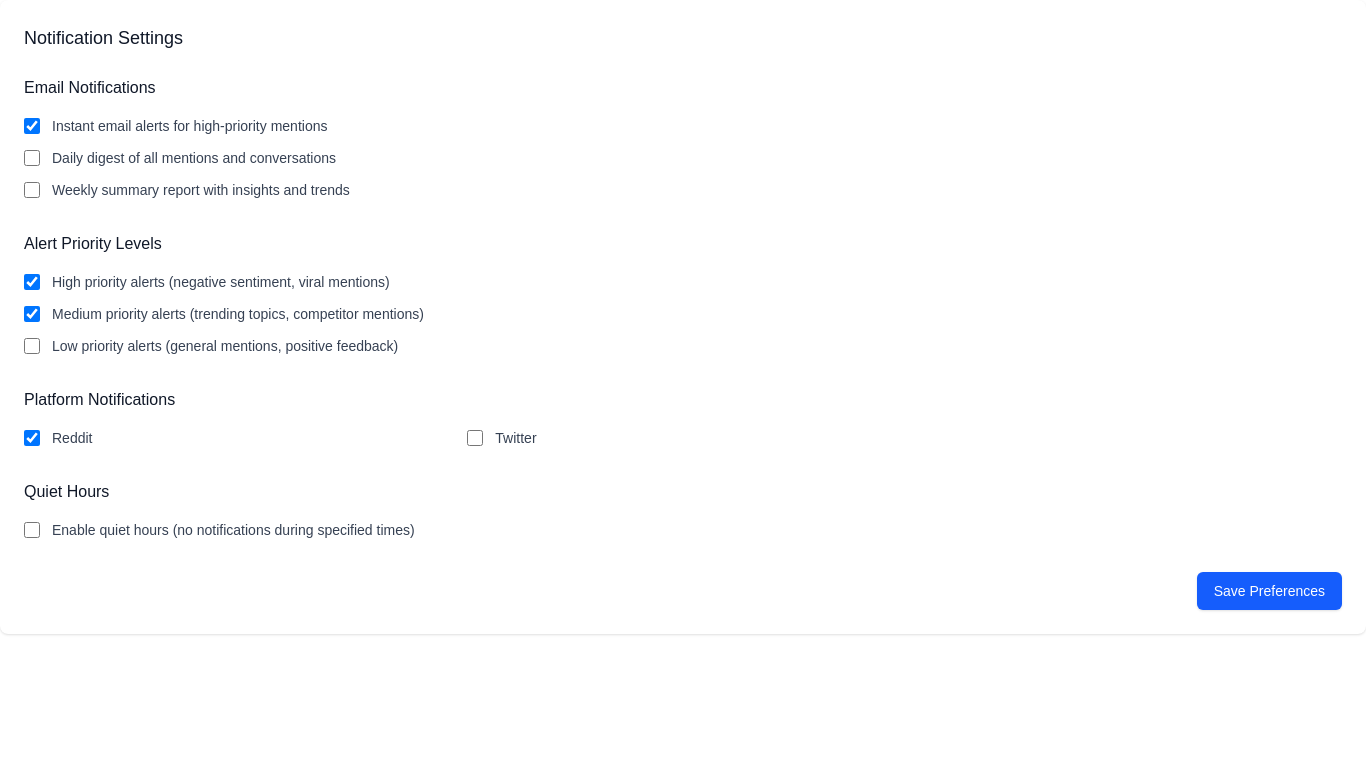
Scenario: NotificationSettings › enables and configures quiet hours
The image size is (1366, 768).
Click the checkbox labelled "Enable quiet hours (no notifications during specified times)": (32, 530) [24, 522, 40, 538]
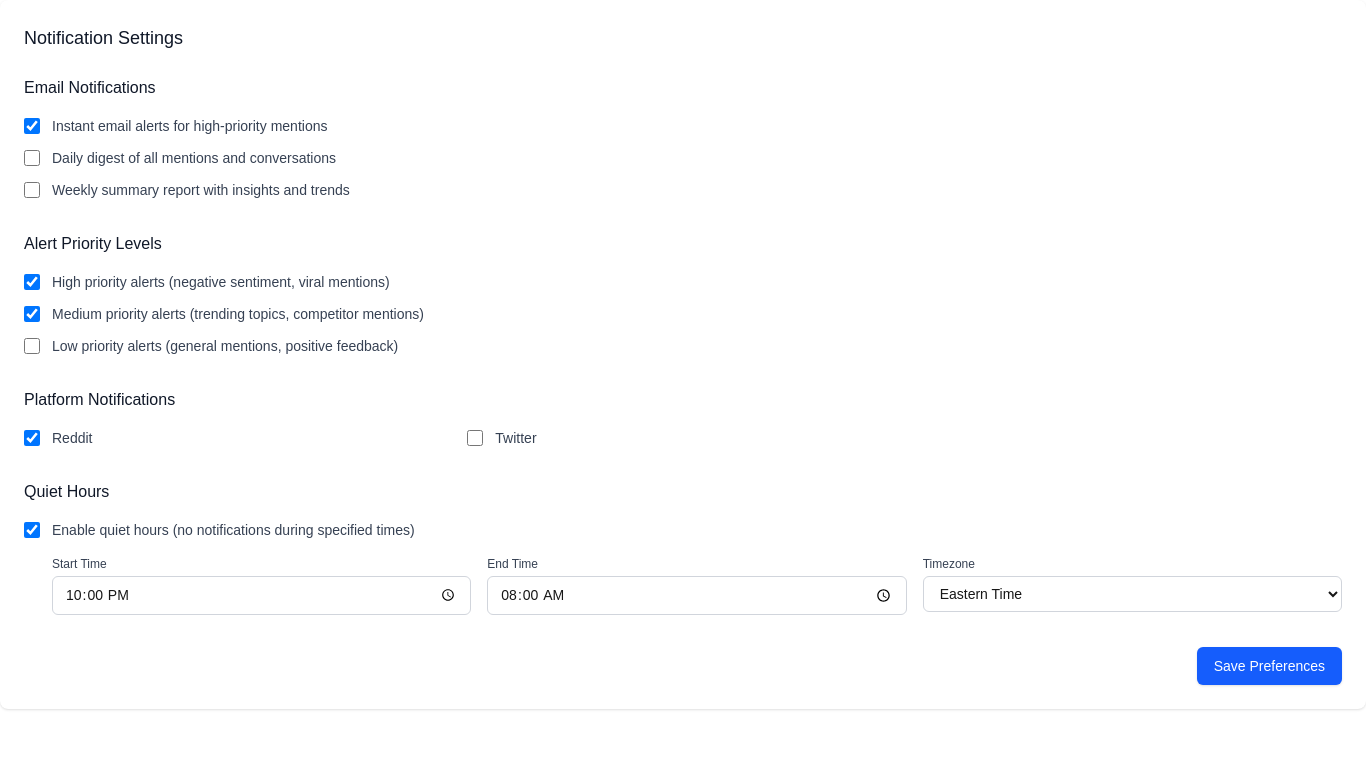
Expected: the checkbox labelled "Enable quiet hours (no notifications during specified times)" is checked, [24, 522, 40, 538]
Expected: the time field labelled "Start Time" is shown, [52, 576, 471, 615]
Expected: the time field labelled "End Time" is shown, [487, 576, 907, 615]
